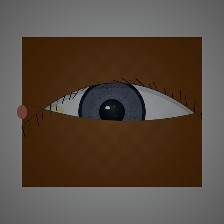pinguecula_lesion: (26, 89, 77, 131)
